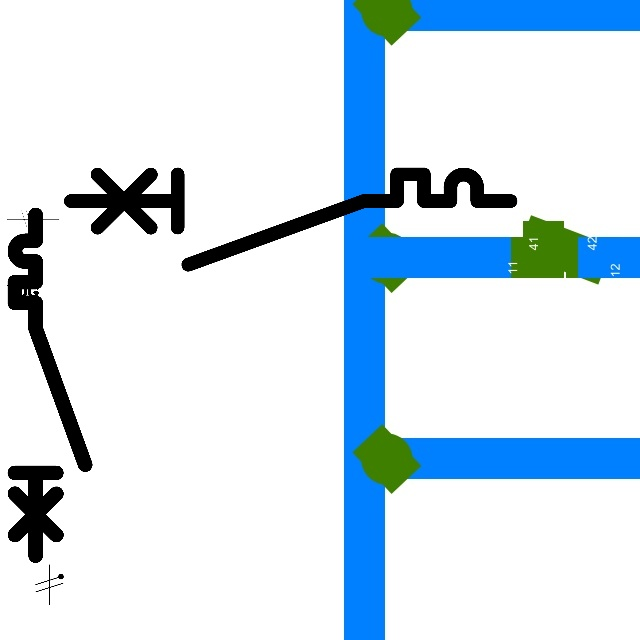interruptor_termomagnetico: (59, 163, 522, 276), (6, 206, 94, 565)
